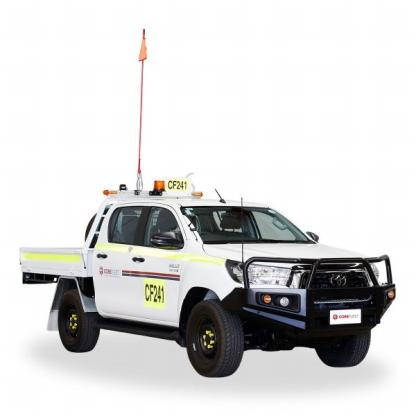light_vehicle: (10, 176, 409, 387)
